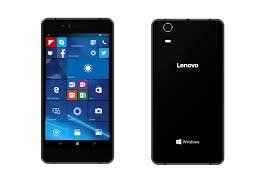lenovo: (150, 14, 227, 169)
